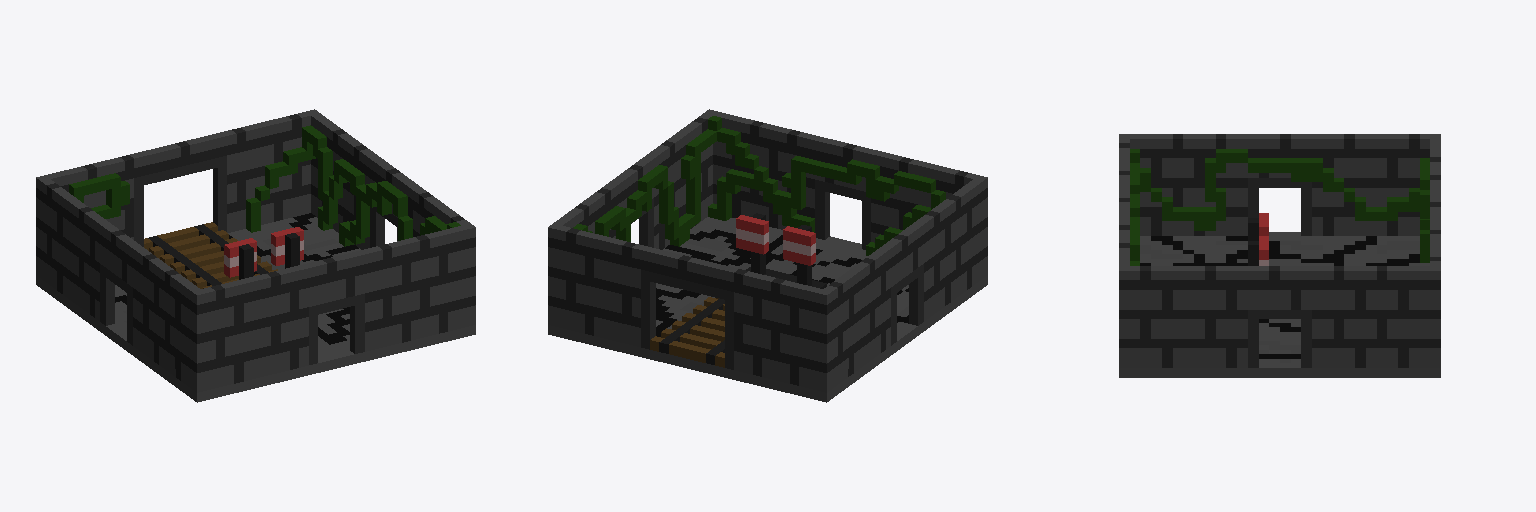
3 views of the same model, side by side, from view 1: azimuth 30°, elevation 25°; view 2: azimuth 150°, elevation 25°; view 3: azimuth 270°, elevation 25° (orthographic).
Visible parts, largest first — view 1: m11_v2.Merged_Plane-tex; view 2: m11_v2.Merged_Plane-tex; view 3: m11_v2.Merged_Plane-tex.
Boxes of the visible parts, x1=… form: m11_v2.Merged_Plane-tex: x1=36, y1=109, x2=475, y2=402; m11_v2.Merged_Plane-tex: x1=548, y1=109, x2=987, y2=402; m11_v2.Merged_Plane-tex: x1=1119, y1=134, x2=1440, y2=377.
Size of the model in its own units: 60 by 22 by 60.
Materials: 1 (1 with a texture image).